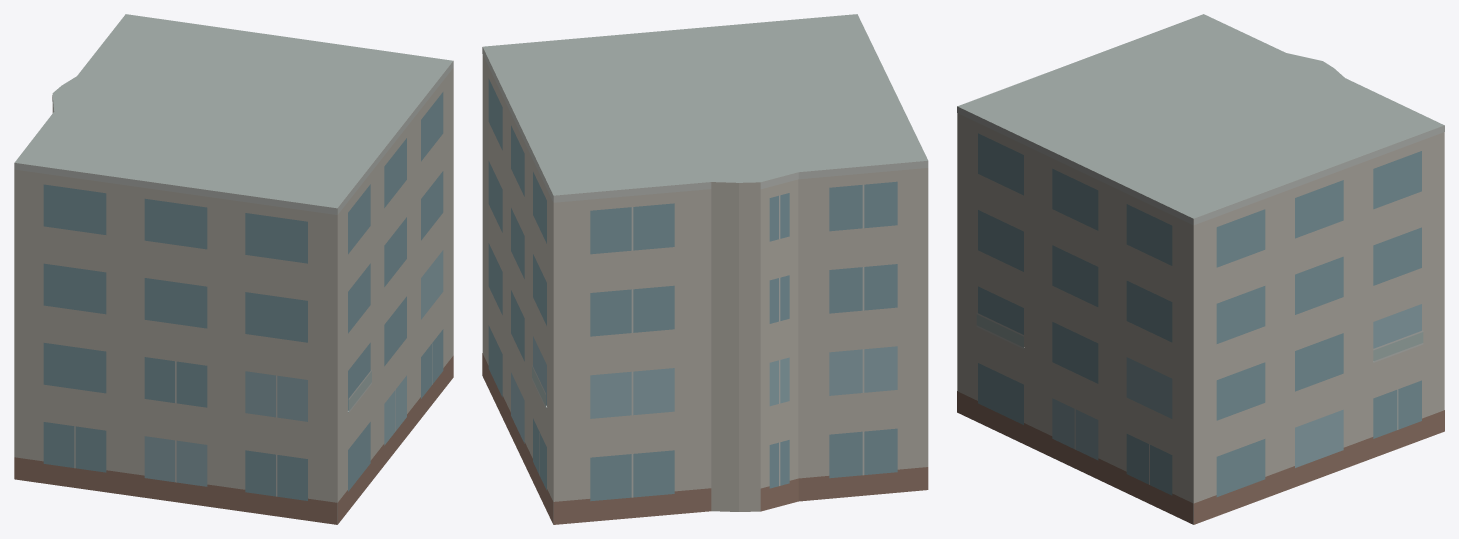
File: survey-upis-32626343.glb
3 views of the same model, side by side, from view 1: azimuth 30°, elevation 25°; view 2: azimuth 150°, elevation 25°; view 3: azimuth 270°, elevation 25° (orthographic). The views are drawn at different scales.
Visible parts, largest first — view 1: survey-upis-32626343.tmp; view 2: survey-upis-32626343.tmp; view 3: survey-upis-32626343.tmp.
Boxes of the visible parts, box(x1,y1,x2,y2) form: survey-upis-32626343.tmp: box(14, 14, 453, 524); survey-upis-32626343.tmp: box(482, 14, 928, 524); survey-upis-32626343.tmp: box(957, 14, 1444, 524).
Bounding box in the file's own units: 16.22 × 11.3 × 16.32.
